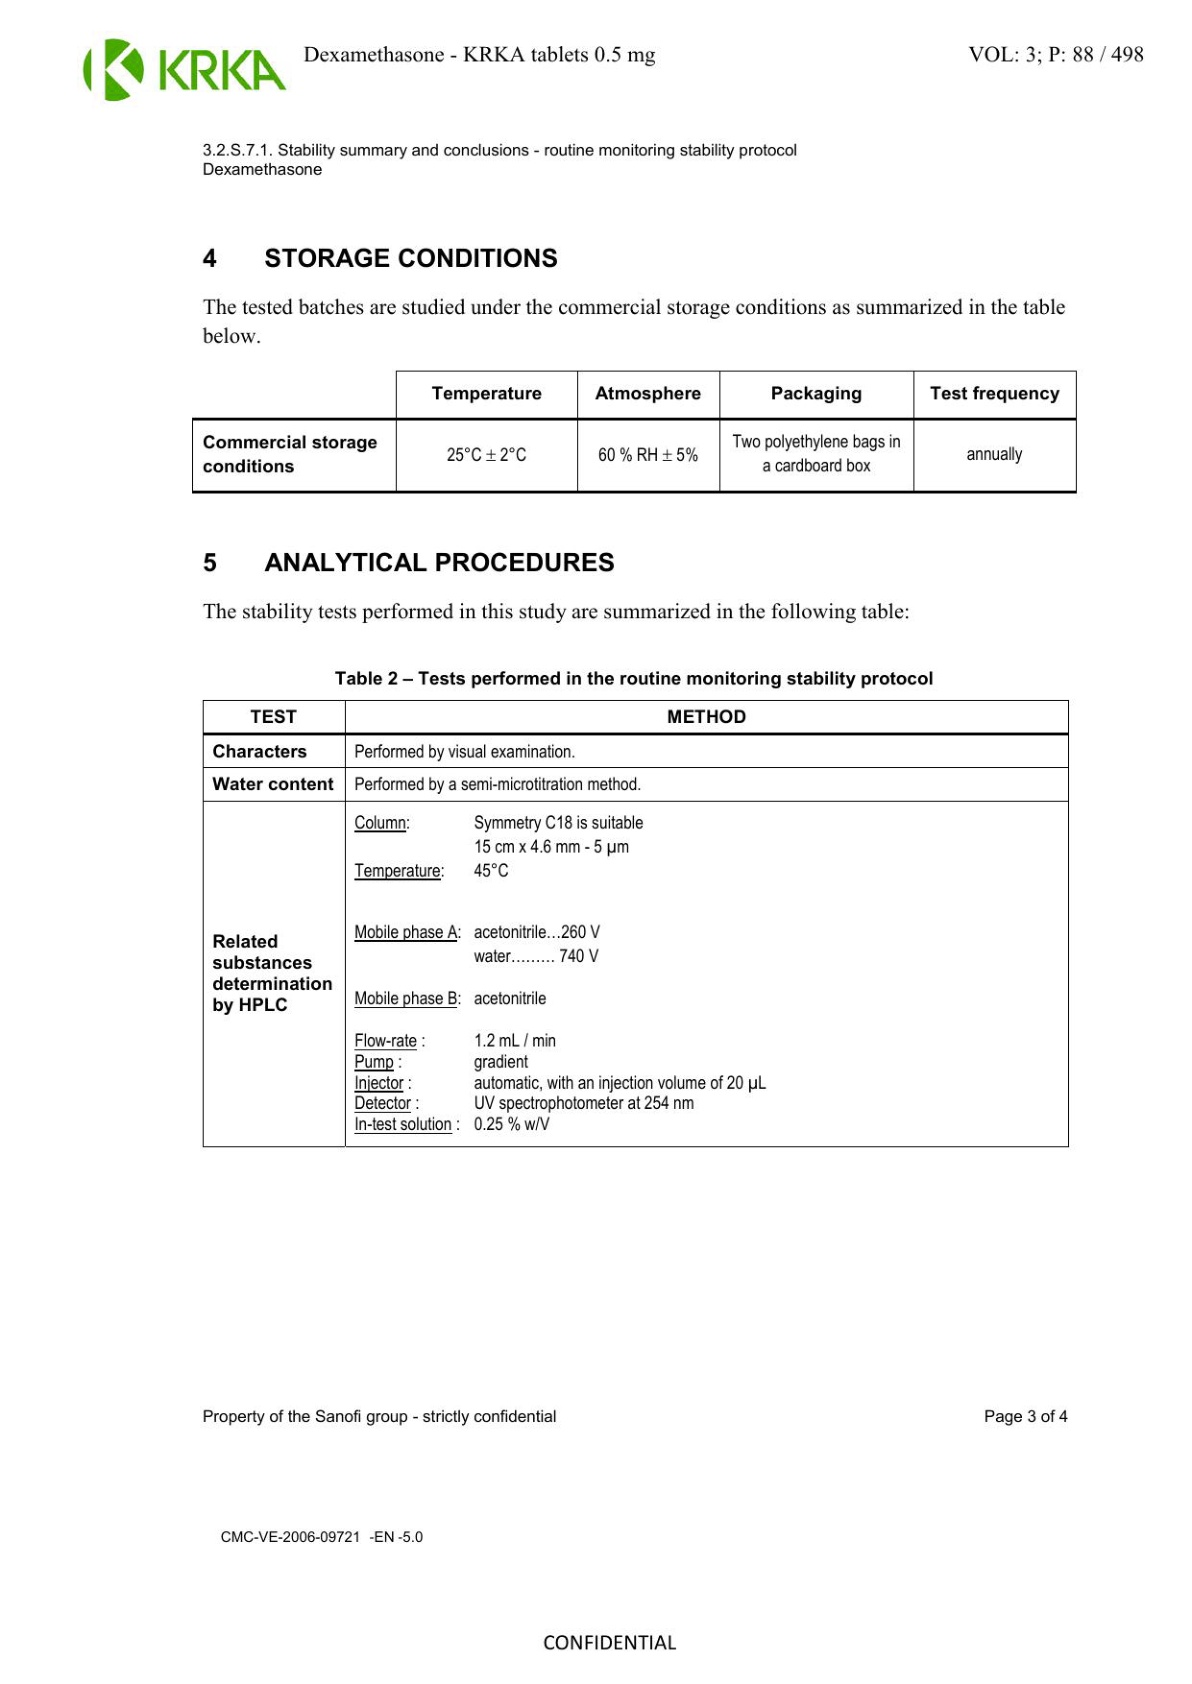full_lined: (200, 705, 1075, 1145), (190, 366, 1080, 498)
